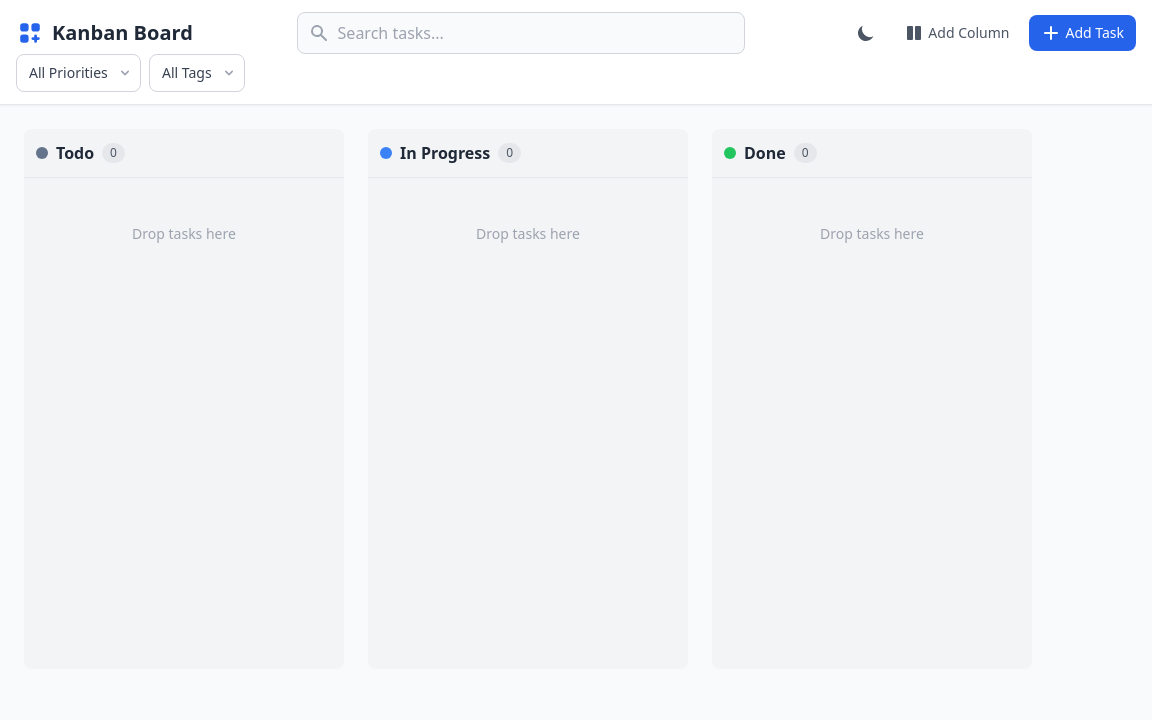
Scenario: App Integration › Task Editing Flow › edits a task and persists changes
// Create a task first
Click the button "Add Task". click: (1083, 33)
box: [1030,15,1136,51]
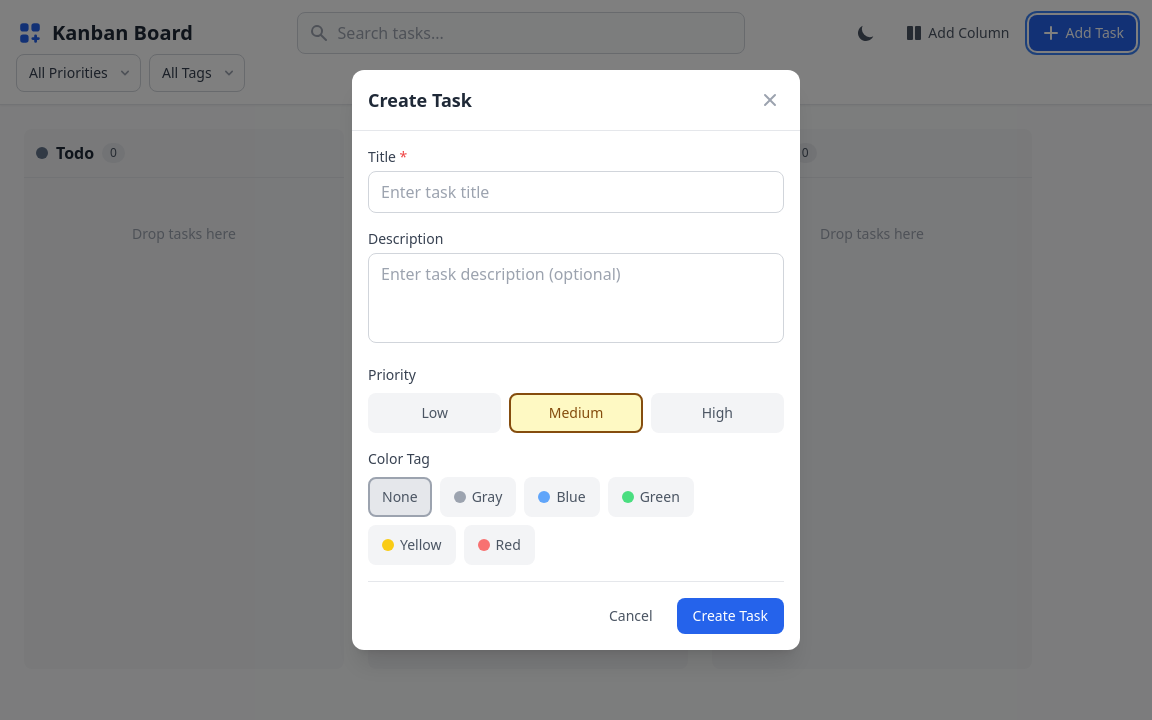
Type "Original Title" into the field labelled "Title *". click: (576, 192)
box: [368,171,784,213]
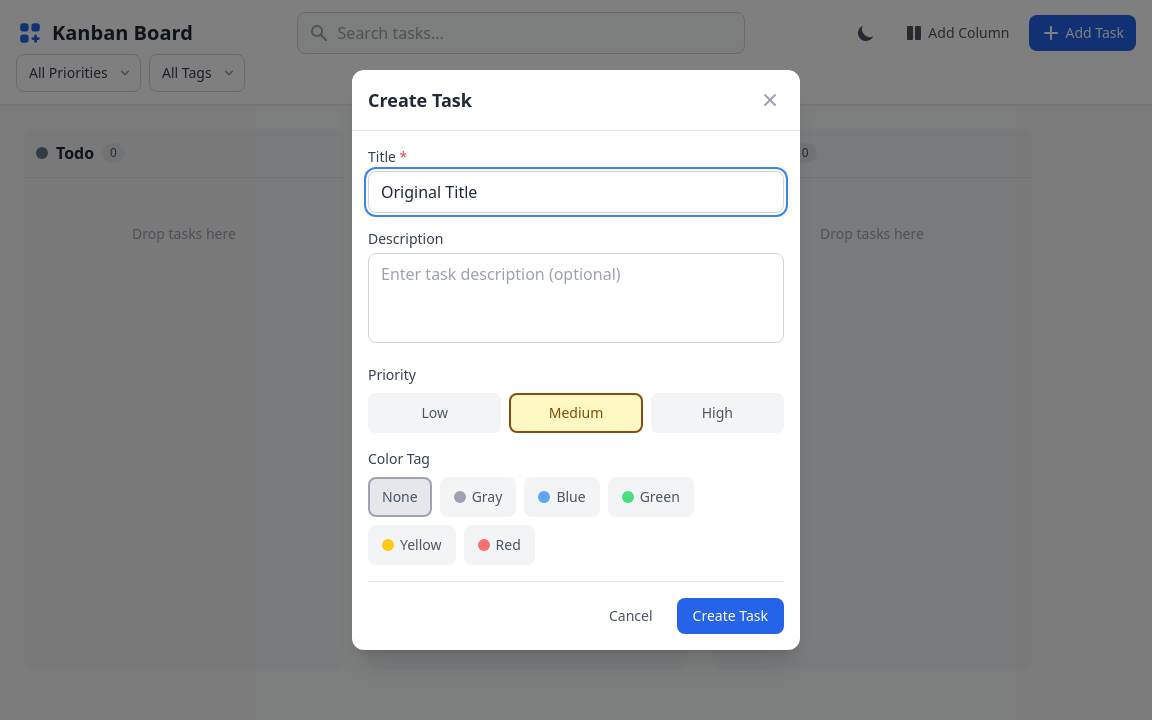
Click the button "Create Task". click: (730, 616)
box: [677,598,784,634]
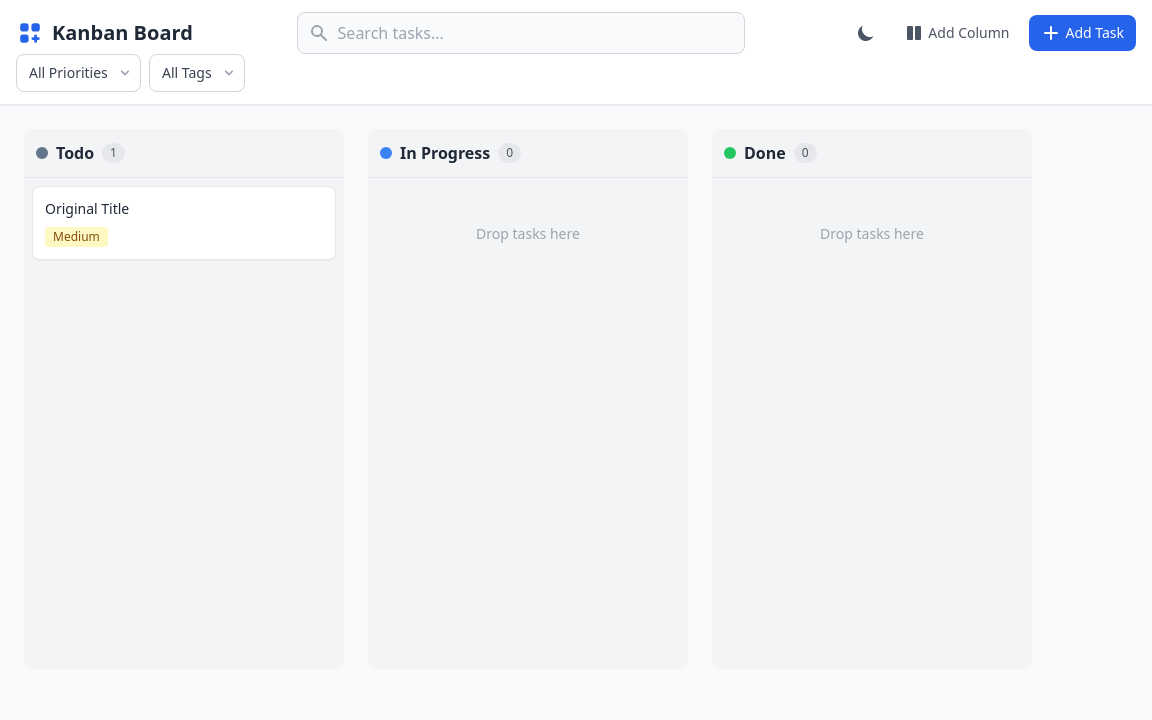
Result: the heading "Original Title" is shown
// Click on the task to edit
Click the heading "Original Title". click: (87, 208)
box: [45,199,129,218]
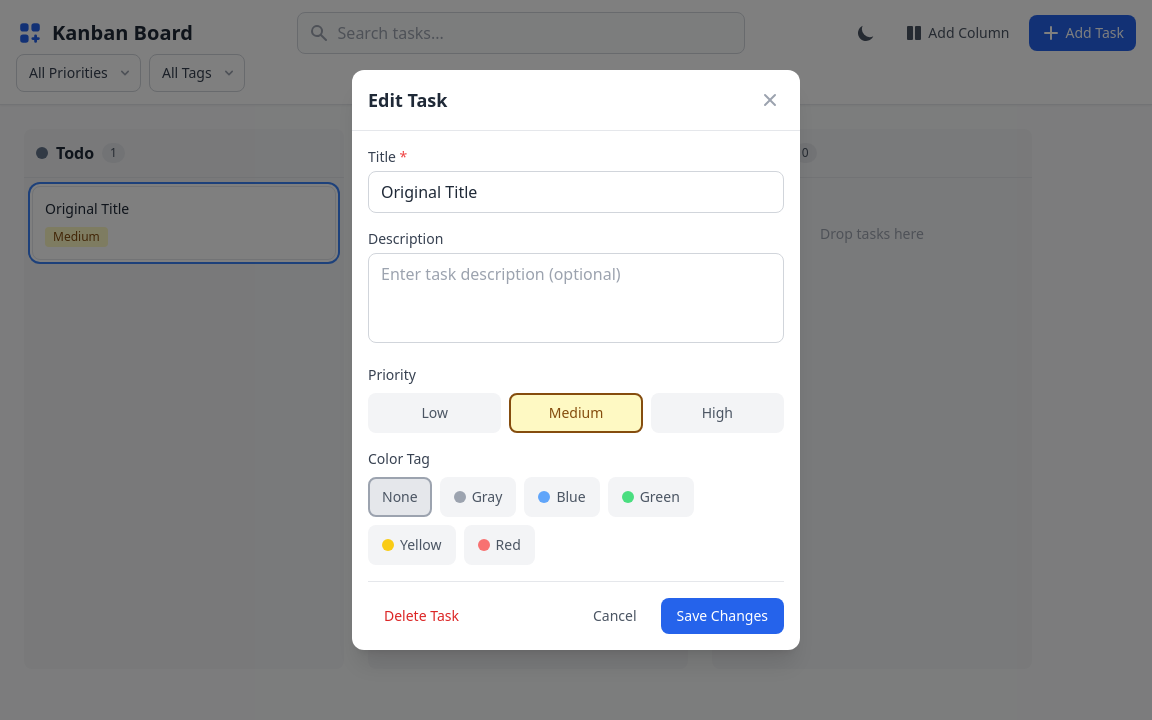
Result: the dialog is shown
Replace the text in the field labelled "Title *" with "Updated Title". click: (576, 192)
box: [368,171,784,213]
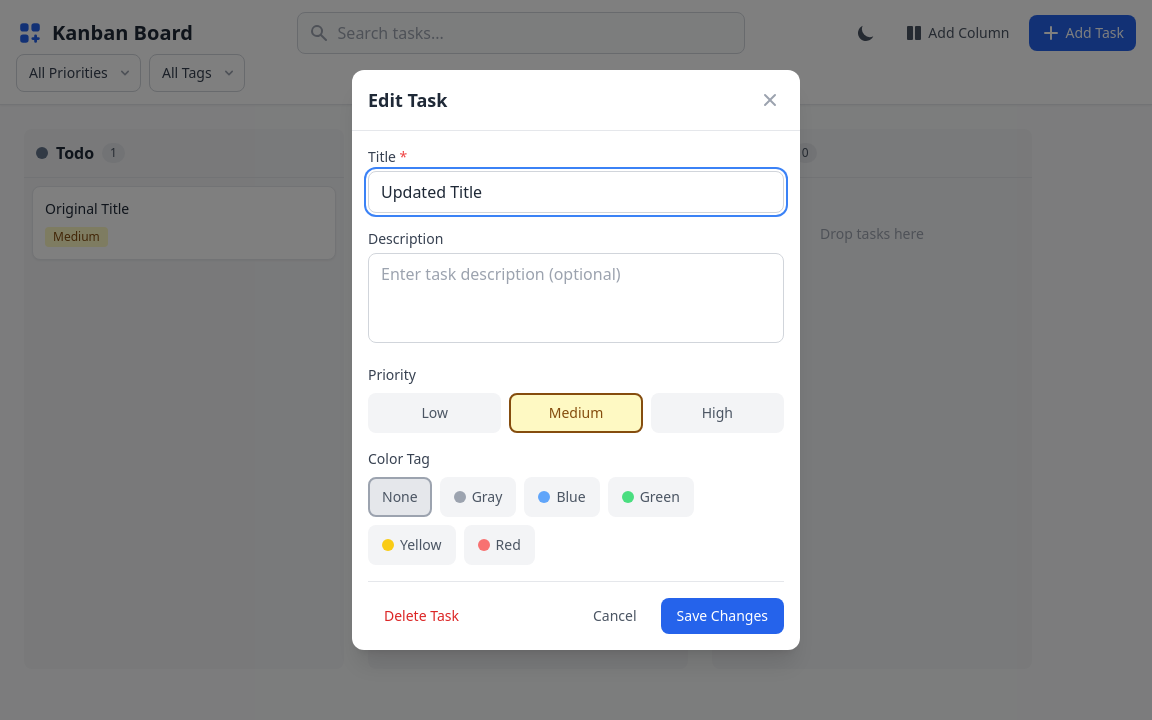
Click the button "Save Changes". click: (722, 616)
box: [661,598,784,634]
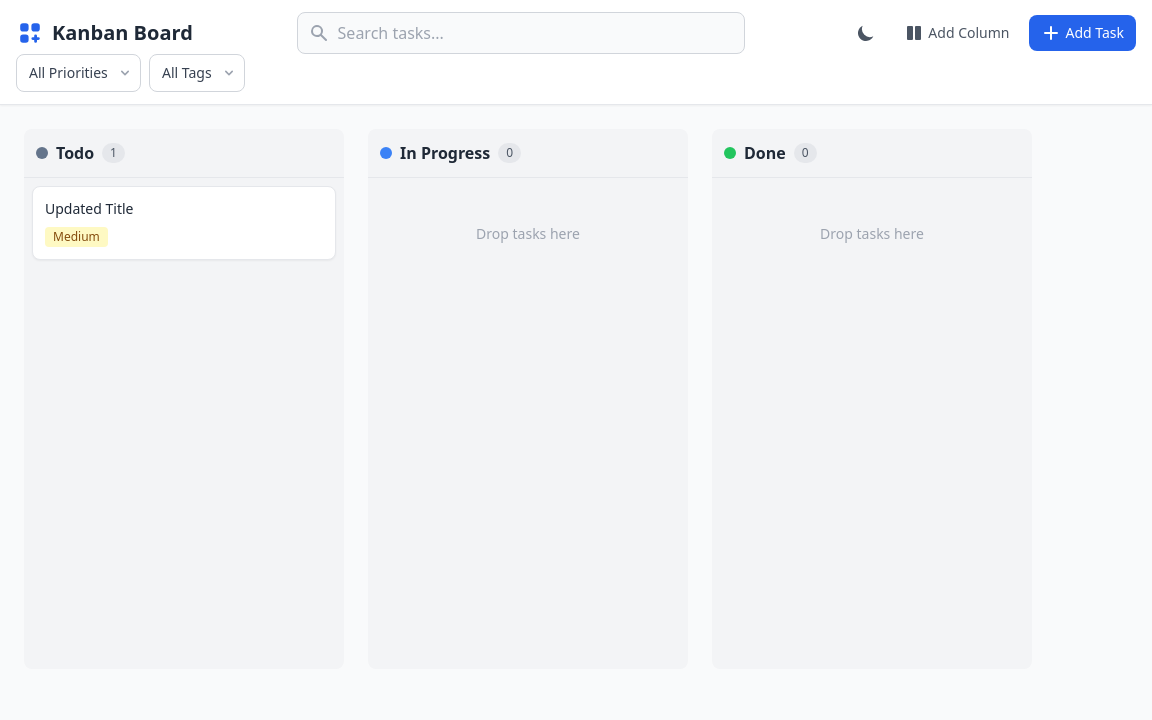
Result: the heading "Updated Title" is shown at [45,199,134,218]
Result: the button "Original Title" is gone
